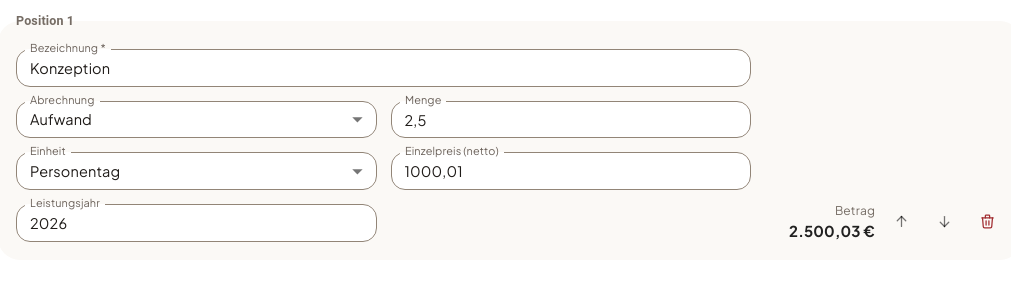
Positionsmaske — der Betrag rechnet mit (Kriterium 5) › meldet einen Einzelpreis, der keine Zahl ist, am Feld
Clear the field labelled "Einzelpreis (netto)": [571, 171] box [390,152,751,190]
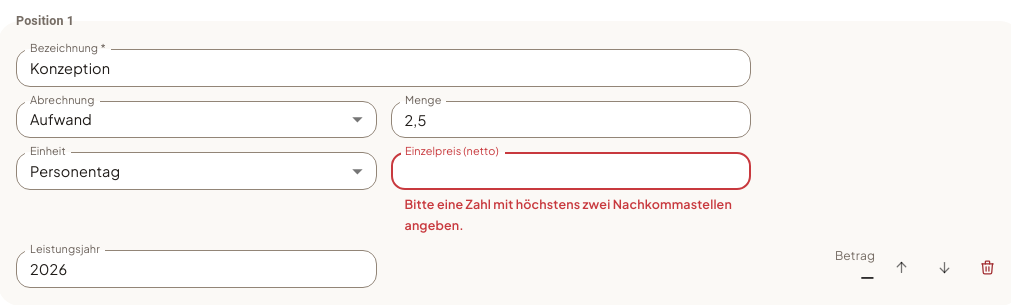
Check: the text "Bitte eine Zahl mit höchstens zwei Nachkommastellen angeben." is shown, box [404,194,737,236]
Check: the text with test id "positions-betrag" reads "—", box [860,266,875,285]
